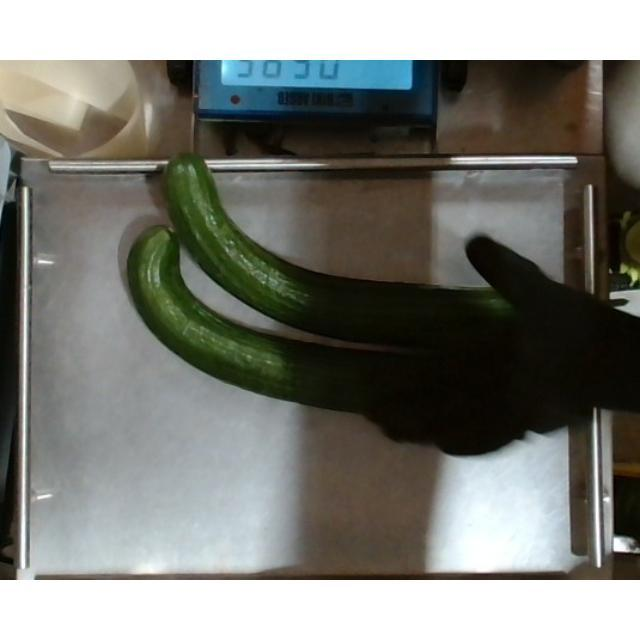cucumber: (123, 222, 534, 414), (157, 148, 538, 346)
